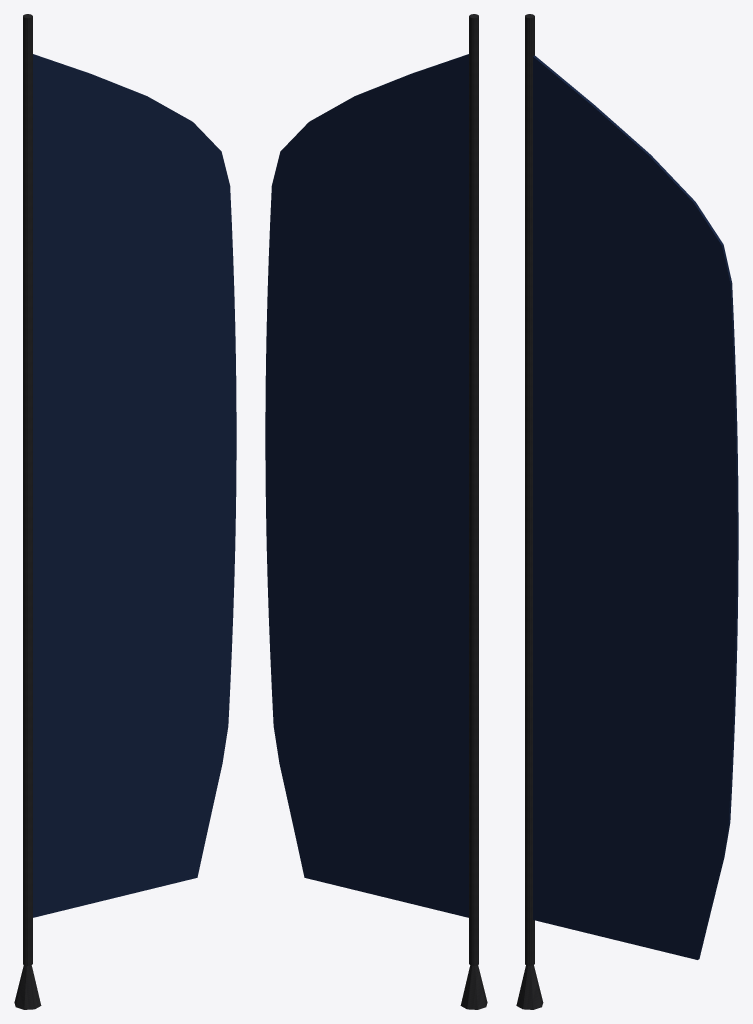
The model's file is featherflag_blank_navy.dae.
3 views of the same model, side by side, from view 1: azimuth 30°, elevation 25°; view 2: azimuth 150°, elevation 25°; view 3: azimuth 330°, elevation 25° (orthographic).
Parts seen in each view (by area): view 1: feather_cloth, flag_pole, flag_spike; view 2: feather_cloth, flag_pole, flag_spike; view 3: feather_cloth, flag_pole, flag_spike.
Part boxes in pixels (x1,y1,x2,y2): feather_cloth: (33,54,236,917); flag_pole: (23,14,32,965); flag_spike: (14,965,41,1009); feather_cloth: (265,54,468,917); flag_pole: (469,14,478,965); flag_spike: (460,965,487,1009); feather_cloth: (533,55,738,959); flag_pole: (525,14,534,965); flag_spike: (516,965,543,1009).
Size of the model in its own units: 0.9108 by 0.1 by 3.91.
Materials: 2 (2 with a texture image).
